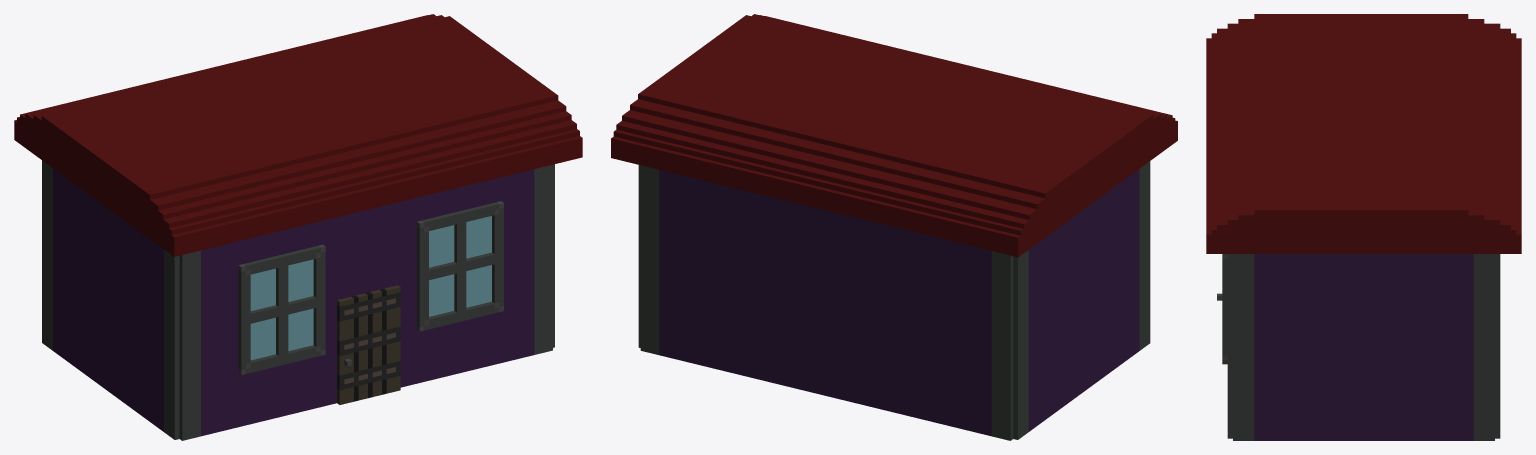
Rendered from Casa3.obj.
The picture shows the model from 3 angles, left to right: view 1: azimuth 30°, elevation 25°; view 2: azimuth 150°, elevation 25°; view 3: azimuth 270°, elevation 25°; orthographic projection.
Bounding box in the file's own units: 8.7 × 4.9 × 5.9.
Materials: 1 (1 with a texture image).
